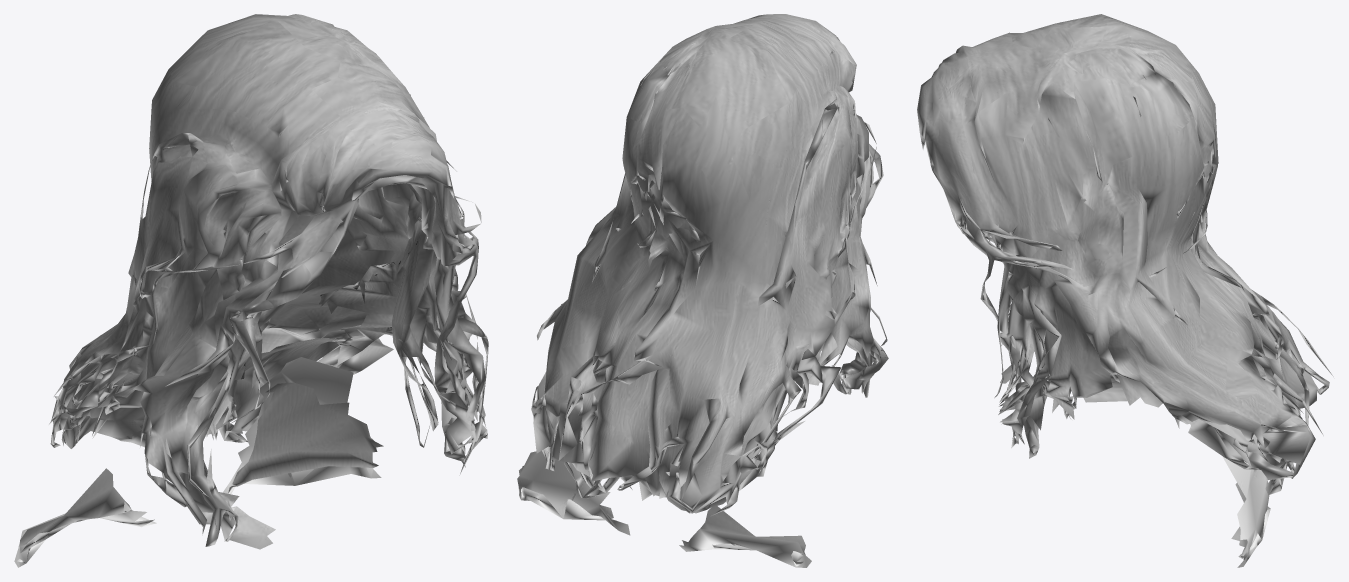
The model's file is unified_f_wavy.glb.
3 renders of one model, left to right at view 1: azimuth 30°, elevation 25°; view 2: azimuth 150°, elevation 25°; view 3: azimuth 270°, elevation 25°, orthographic. The views are drawn at different scales.
Parts seen in each view (by area): view 1: Hair_wavy; view 2: Hair_wavy; view 3: Hair_wavy.
Part boxes in pixels (box(x1,y1,x2,y2)): Hair_wavy: box(14, 14, 488, 567); Hair_wavy: box(517, 14, 888, 567); Hair_wavy: box(917, 14, 1333, 567).
Size of the model in its own units: 0.146 by 0.2095 by 0.1685.
1 material, 1 textured.
